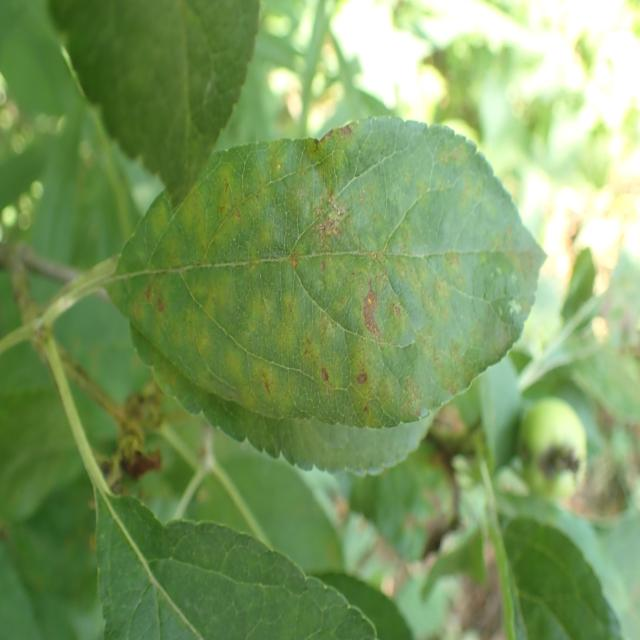scab: (106, 148, 545, 426)
